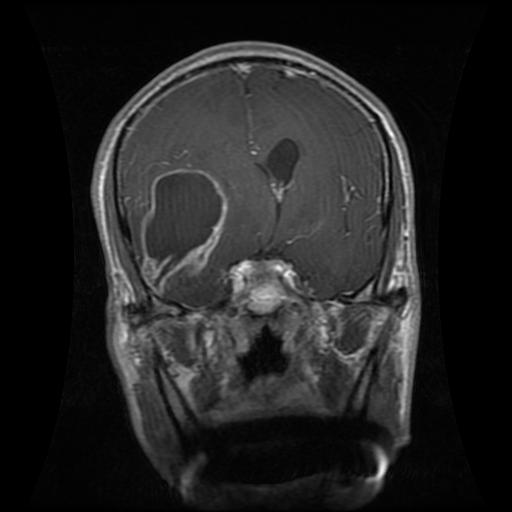Gliomia_tumour: (137, 166, 229, 295)
